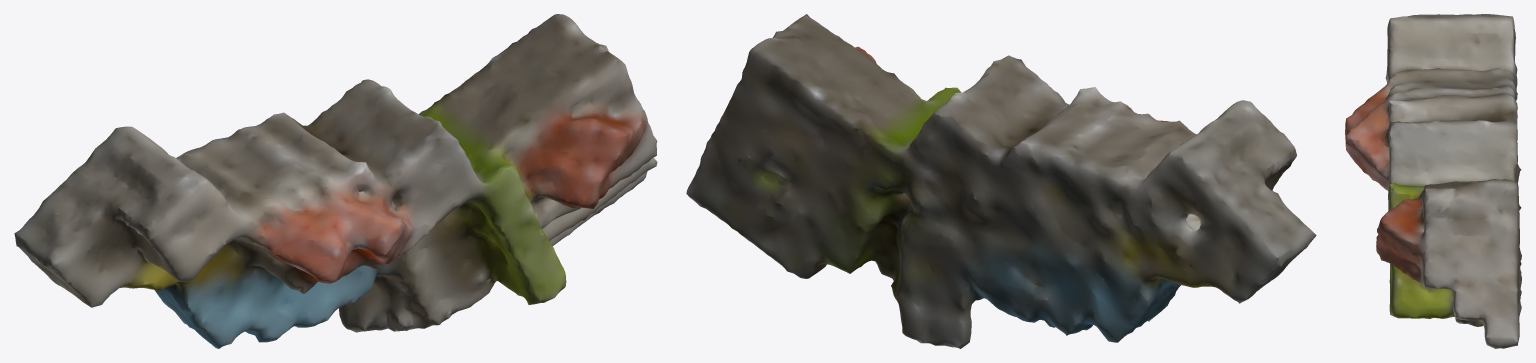
Rendered from blocks.glb.
3 renders of one model, left to right at view 1: azimuth 30°, elevation 25°; view 2: azimuth 150°, elevation 25°; view 3: azimuth 270°, elevation 25°, orthographic. The views are drawn at different scales.
Bounding box in the file's own units: 0.9938 × 0.4087 × 0.3118.
